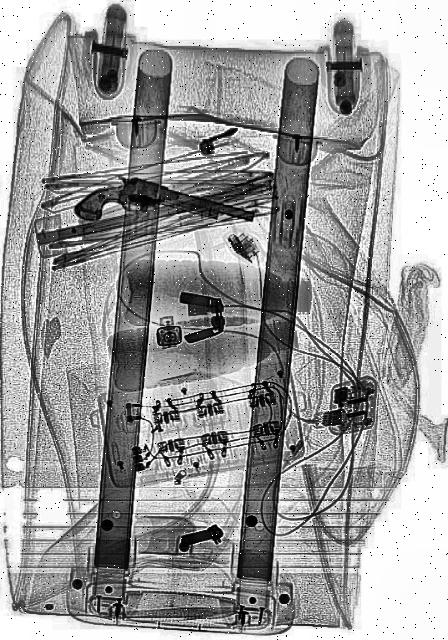Gun: (71, 160, 253, 266)
